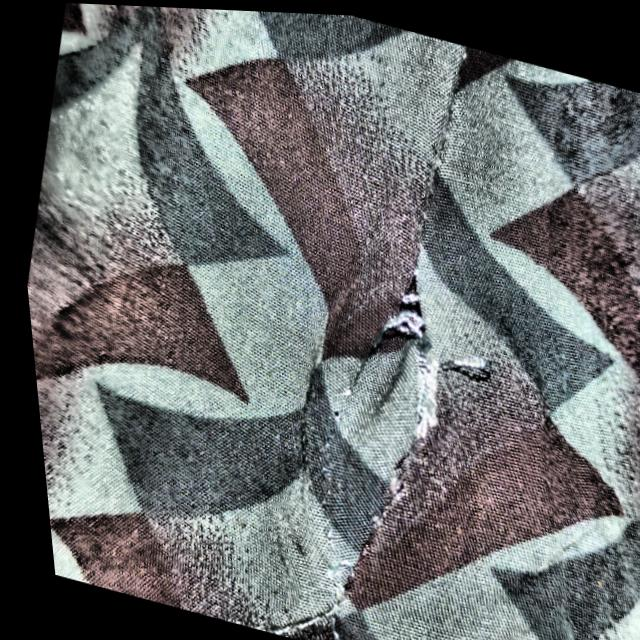seam: (209, 224, 581, 640)
